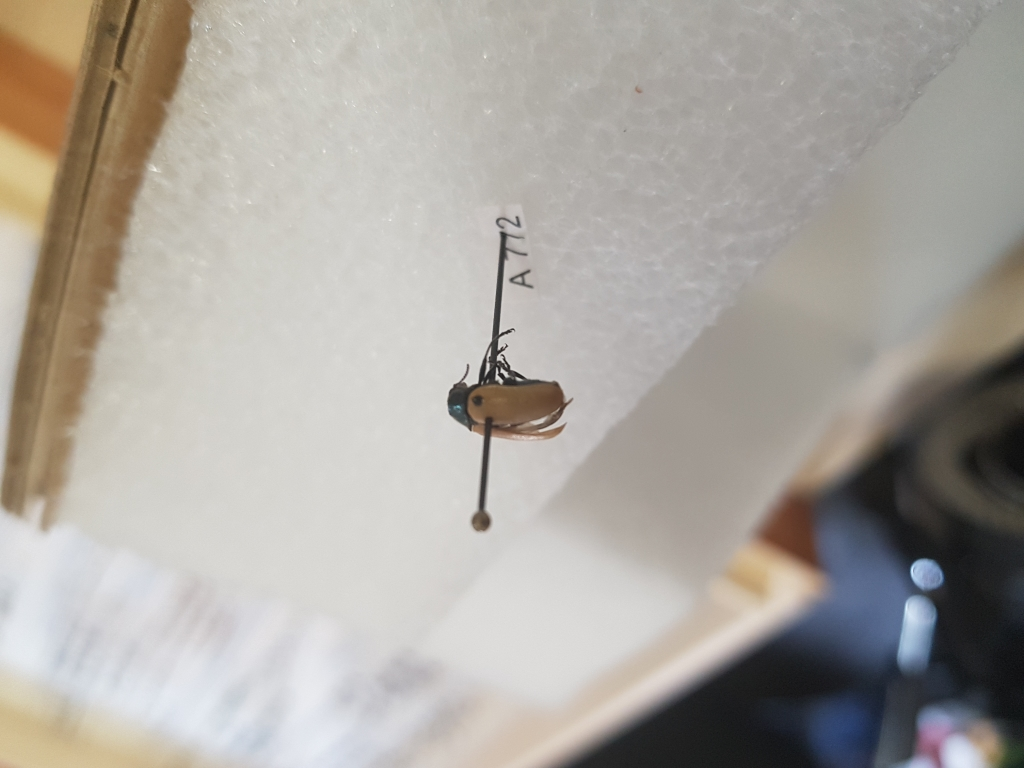Labidostomis_propinqua: (446, 324, 577, 444)
